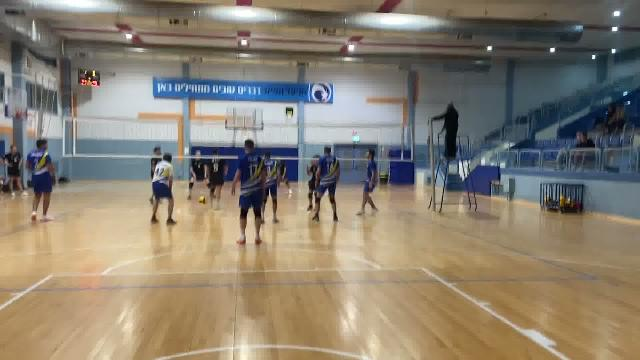ball: (195, 195, 212, 208)
